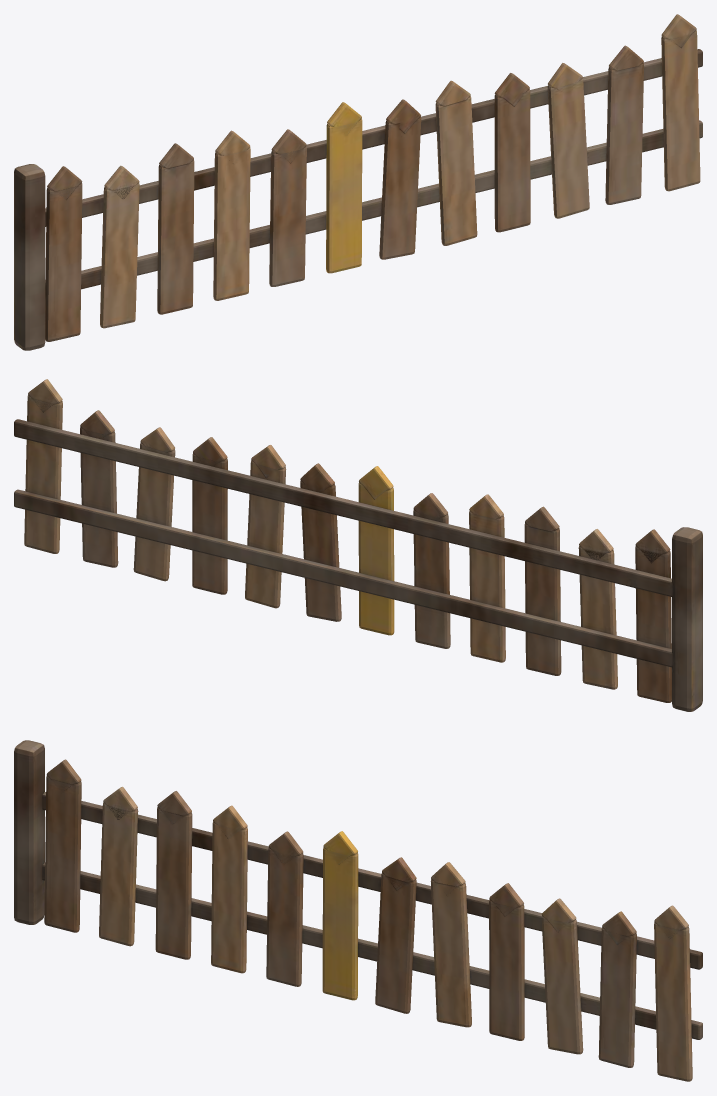
The model's file is fence_low_b.glb.
The picture shows the model from 3 angles, top to bottom: view 1: azimuth 30°, elevation 25°; view 2: azimuth 150°, elevation 25°; view 3: azimuth 330°, elevation 25°; orthographic projection.
Visible parts, largest first — view 1: FenceLow_Mesh; view 2: FenceLow_Mesh; view 3: FenceLow_Mesh.
Part boxes in pixels (<box>): FenceLow_Mesh: <box>14,14,702,350</box>; FenceLow_Mesh: <box>14,379,702,711</box>; FenceLow_Mesh: <box>14,740,702,1081</box>.
Bounding box in the file's own units: 4.04 × 1 × 0.13.
1 material, 1 textured.
